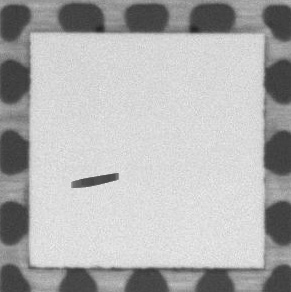DIE_INK: (70, 171, 119, 187)
